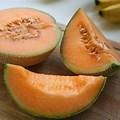Melon Ripe: (3, 63, 107, 120), (60, 8, 120, 77), (0, 7, 62, 67)
